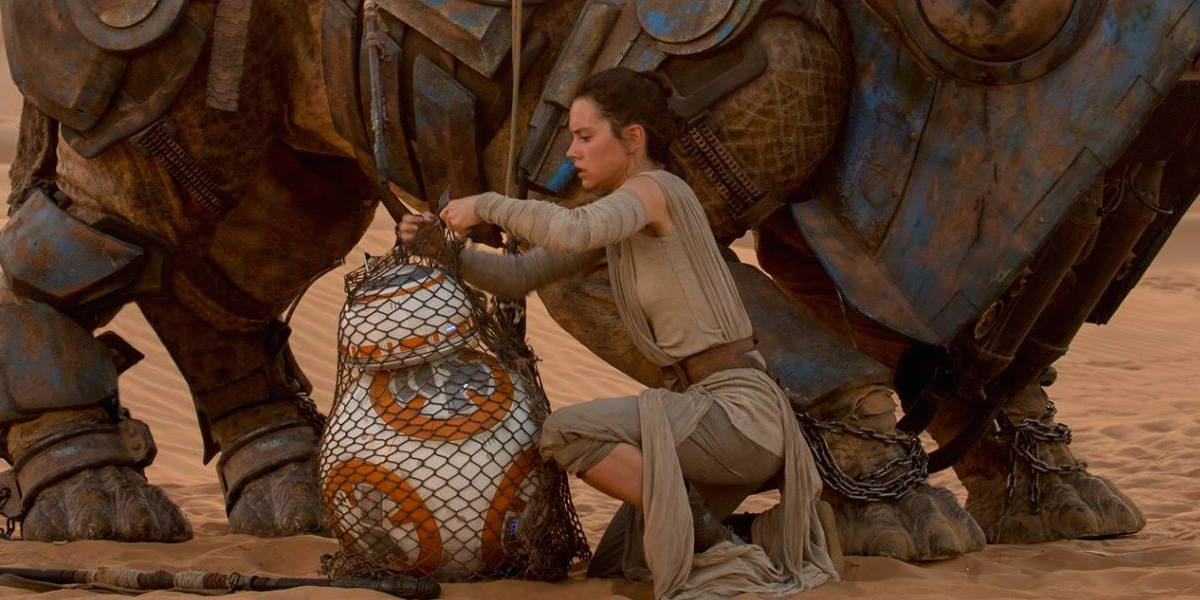bb8: (320, 265, 552, 579)
